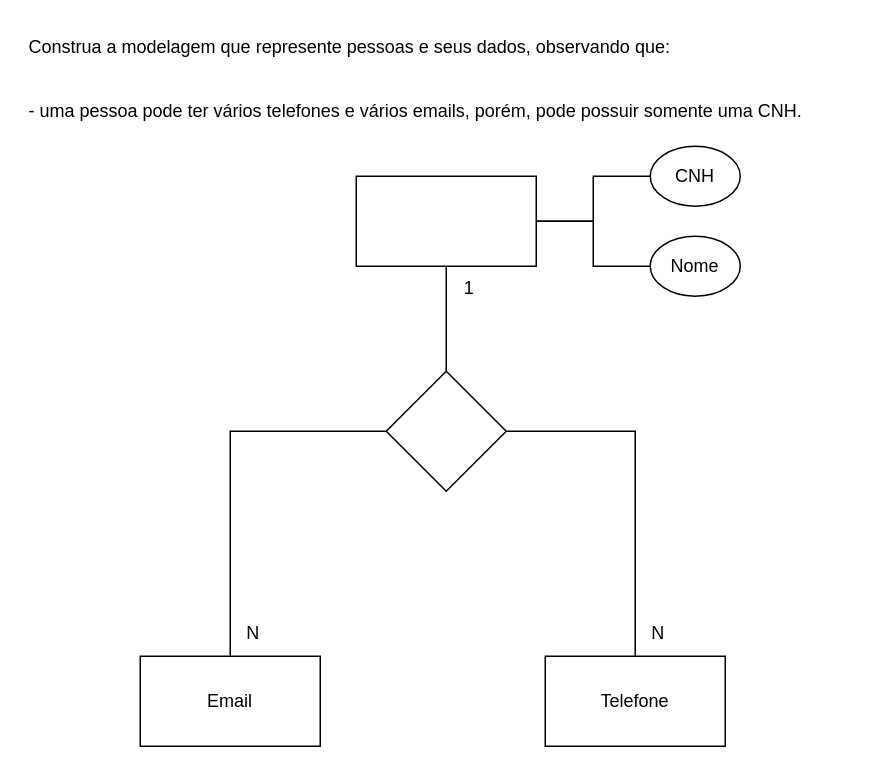
Image size: 891x773. Some labels were removed from this diagram. The shapes that lost their labels are listed below. From the top down, each one's centre as x and y in pixels, then its label:
[445,220]: Pessoa
[445,430]: possui
